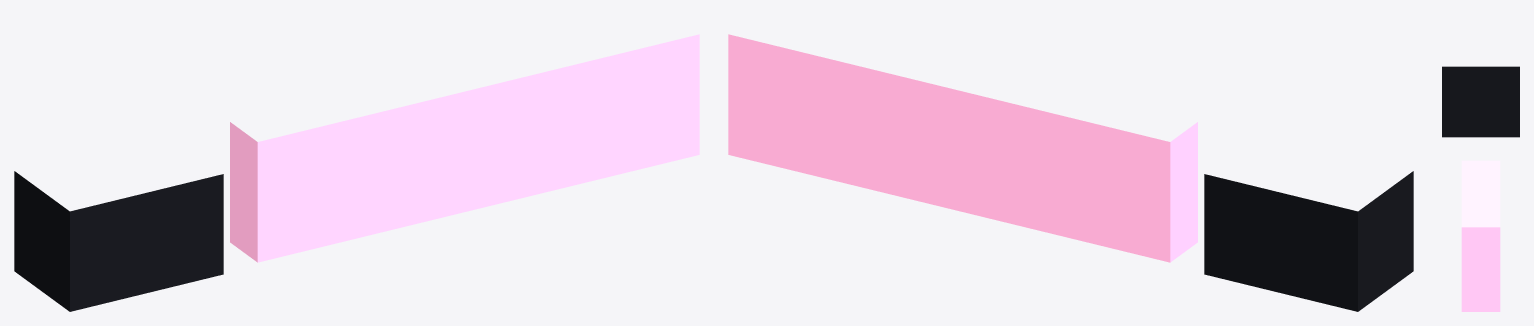
File: queen-of-pain.glb
3 renders of one model, left to right at view 1: azimuth 30°, elevation 25°; view 2: azimuth 150°, elevation 25°; view 3: azimuth 270°, elevation 25°, orthographic. The views are drawn at different scales.
Visible parts, largest first — view 1: queen-of-pain-edge, queen-of-pain-grip; view 2: queen-of-pain-edge, queen-of-pain-grip; view 3: queen-of-pain-edge, queen-of-pain-grip.
Part boxes in pixels (left/top/right/bottom): queen-of-pain-edge: left=230, top=34, right=699, bottom=262; queen-of-pain-grip: left=14, top=171, right=223, bottom=311; queen-of-pain-edge: left=728, top=34, right=1197, bottom=262; queen-of-pain-grip: left=1204, top=171, right=1413, bottom=311; queen-of-pain-edge: left=1461, top=160, right=1500, bottom=311; queen-of-pain-grip: left=1442, top=66, right=1519, bottom=137.
Size of the model in its own units: 0.67 by 0.12 by 0.1.
